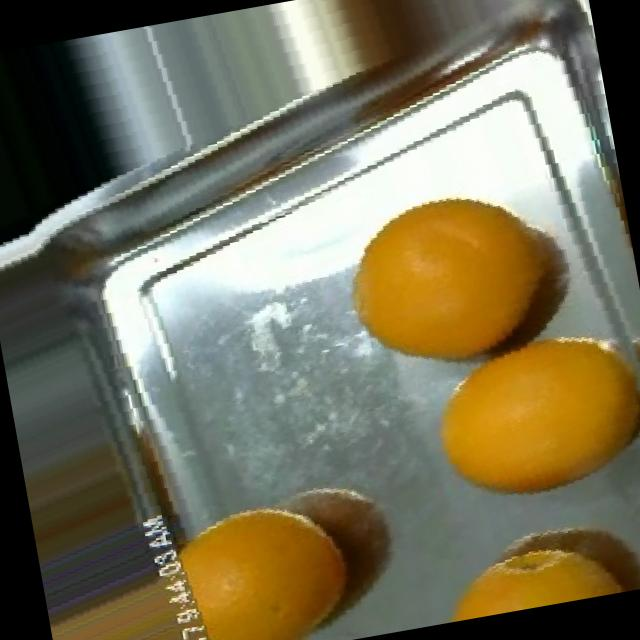Fruit: (146, 469, 390, 640)
